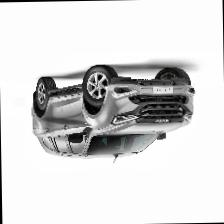NON-EV: (30, 64, 197, 168)
